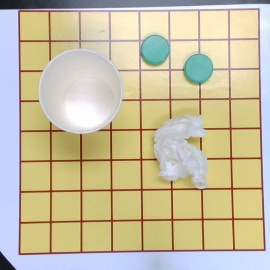cup: (39, 50, 122, 136)
green: (141, 34, 169, 65), (185, 54, 213, 83)
